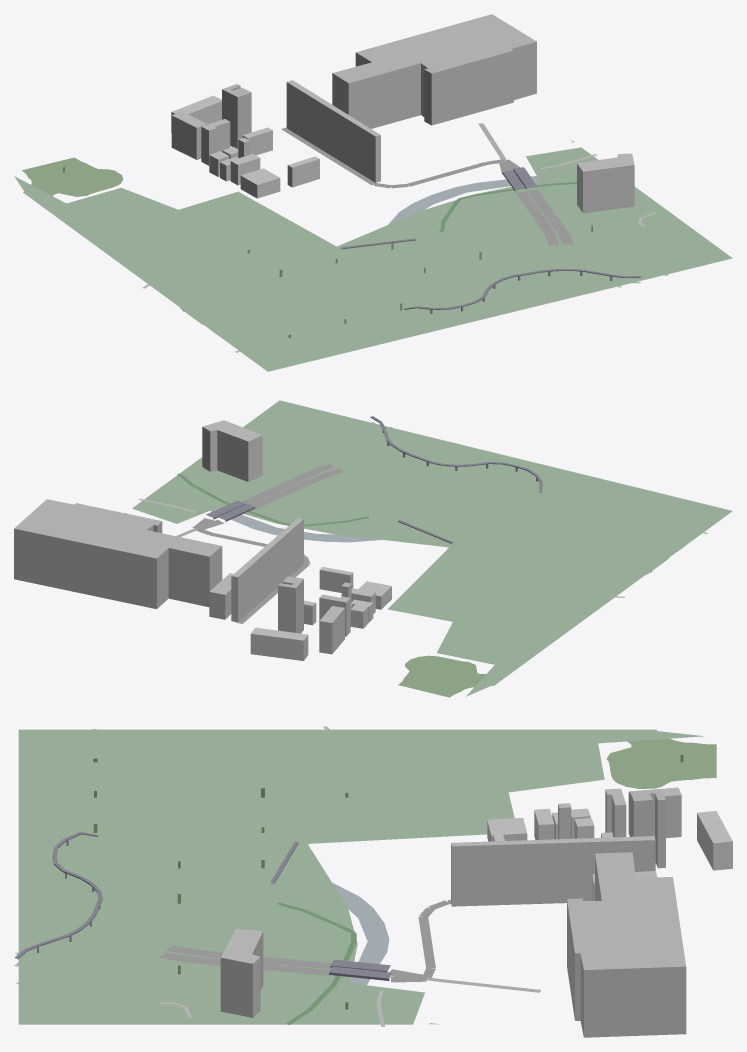
3 views of the same model, one above another, from view 1: azimuth 30°, elevation 25°; view 2: azimuth 150°, elevation 25°; view 3: azimuth 270°, elevation 25° (orthographic). The views are drawn at different scales.
Size of the model in its own units: 531 by 55.52 by 515.
